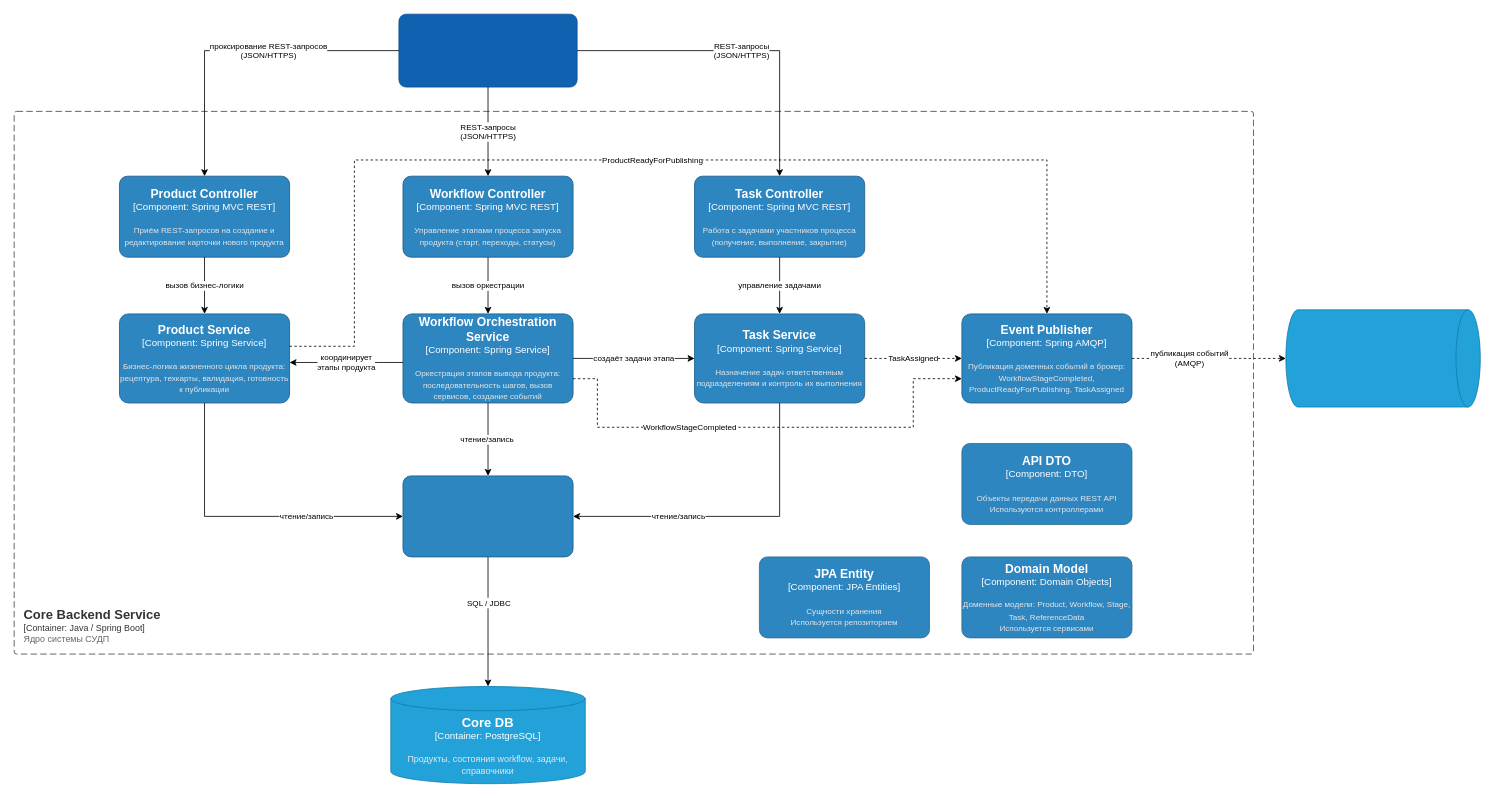
Some shapes in this 1494 by 798 pixel diagram are drawn without their labels. Here are the shapes that lost their labels. From the top down, the centre of each, then its label:
pixel 487 50: Api Gateway [Container: NGINX] Маршрутизация и проксирование запросов
pixel 1382 358: Message Broker [Container: RabbitMQ] Шина доменных событий
pixel 487 516: Core Repository [Component: Spring Data JPA] Доступ к данным
